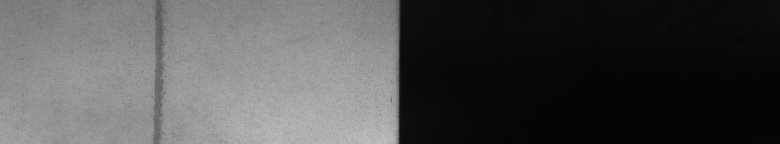hd: (146, 4, 170, 136)
